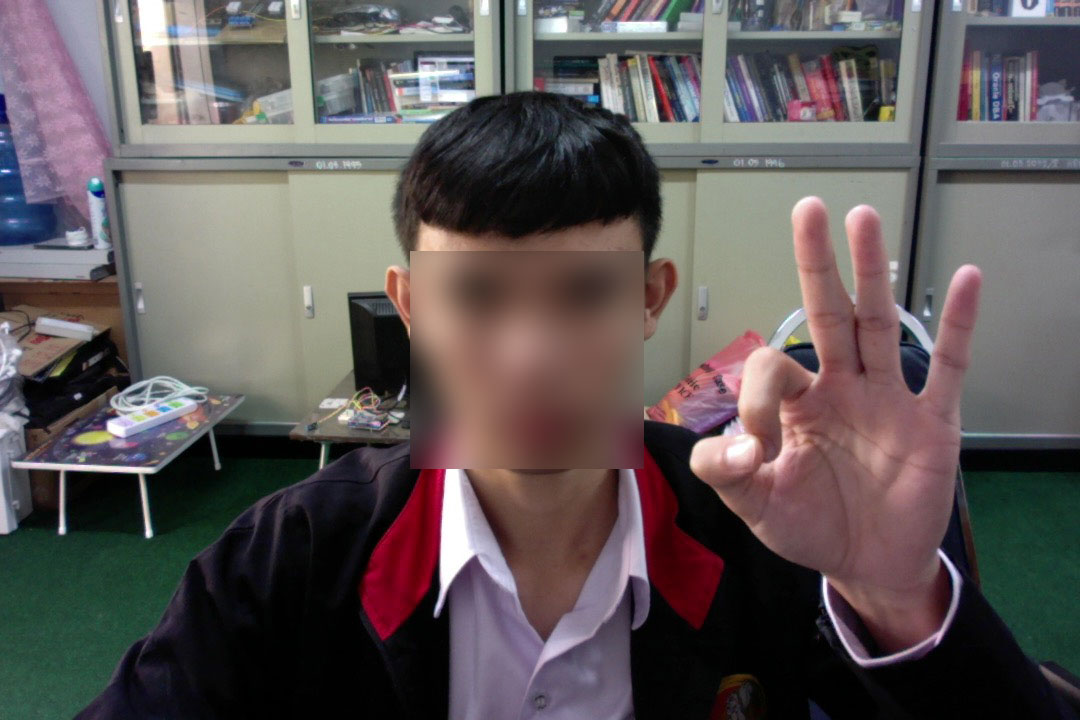for: (680, 188, 987, 600)
